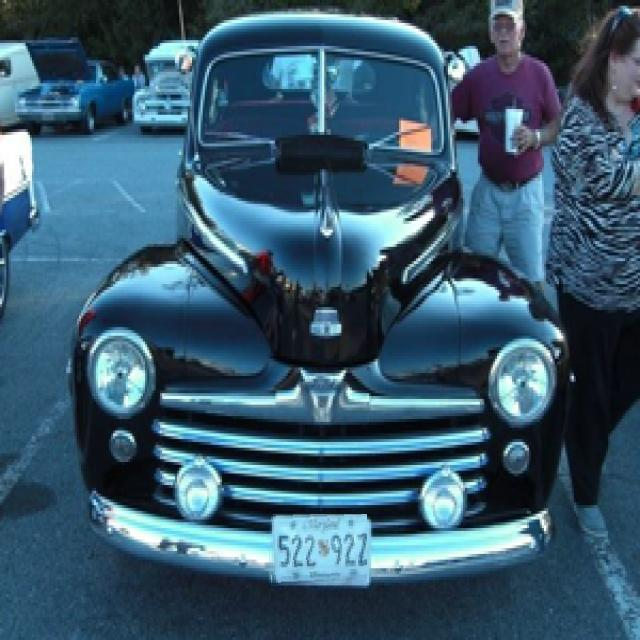licence: (267, 514, 367, 585)
